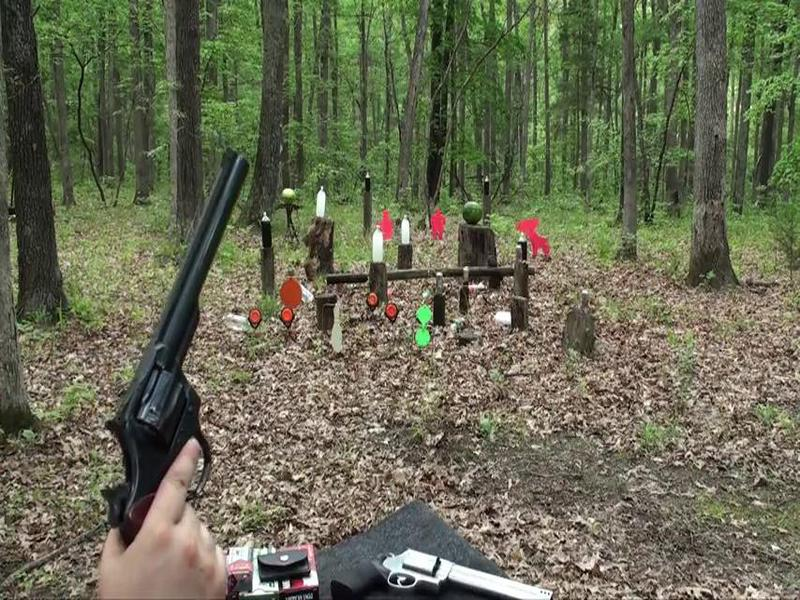Revolver: (101, 139, 250, 551)
